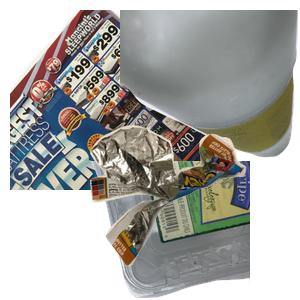glass: (120, 10, 300, 160)
paper: (10, 10, 240, 190)
plastic: (23, 161, 263, 300)
trash: (88, 123, 300, 300)
